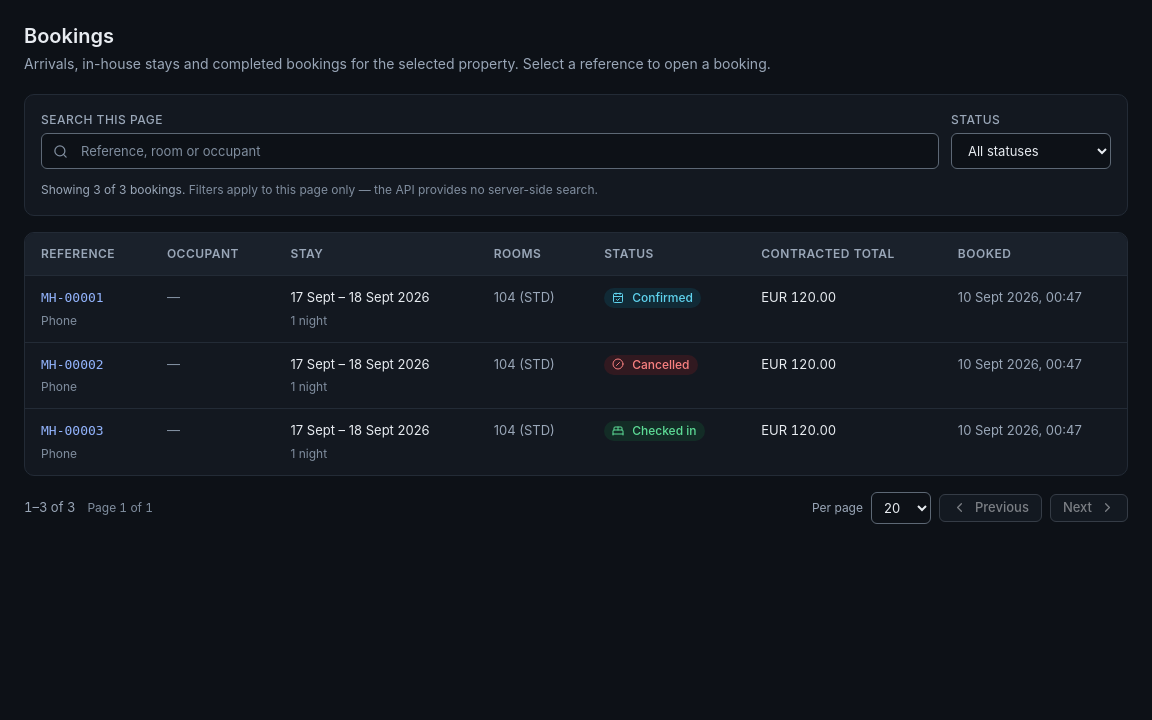
Test: filtering › distinguishes "nothing matched" from "no bookings"
Check: the link "MH-00001" is shown, box [41,288,104,308]
Type "nothing-matches-this" into the search field labelled "Search this page" at x=490, y=151, box [41,133,939,169]
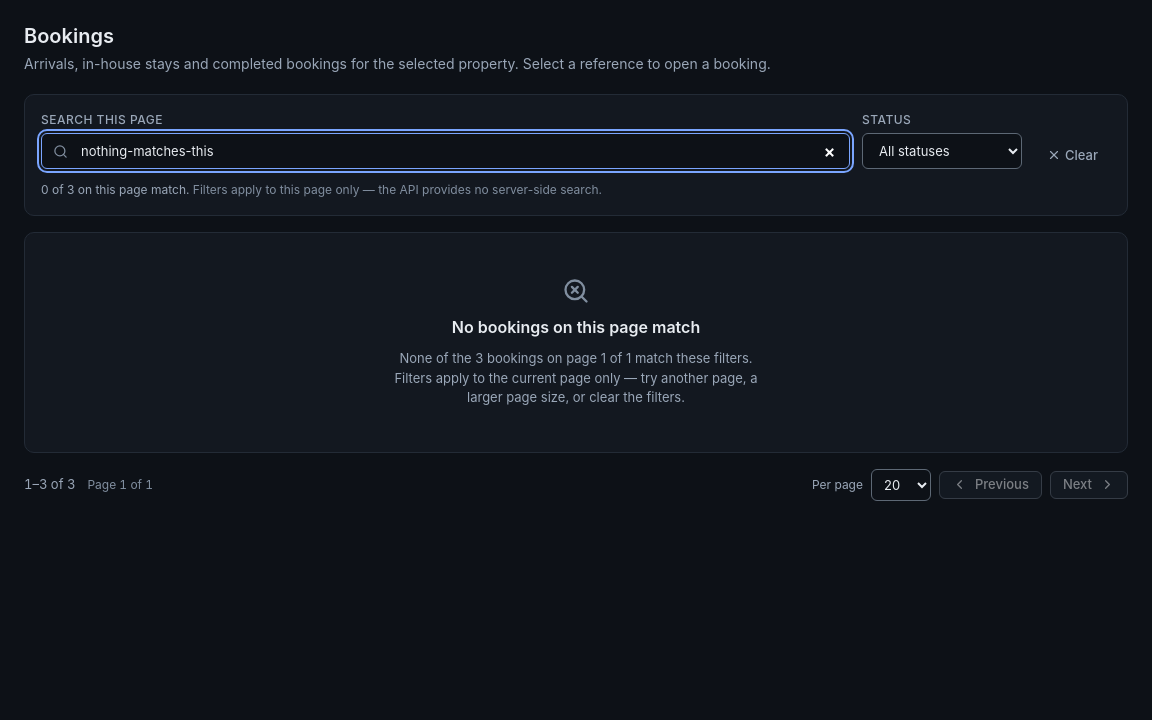
Check: the heading "No bookings on this page match" is shown, box [452,317,700,337]
Check: the text "Filters apply to the current page only" is shown, box [394,350,758,405]
